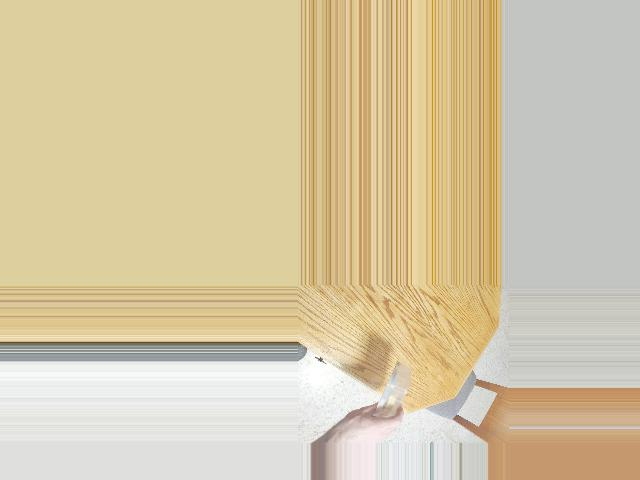cheese: (376, 359, 411, 425)
